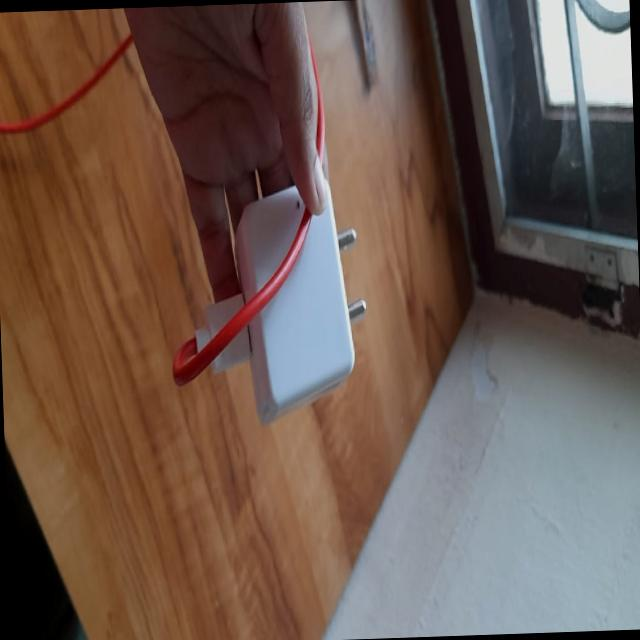Charger - Recyclable: (165, 165, 372, 428)
